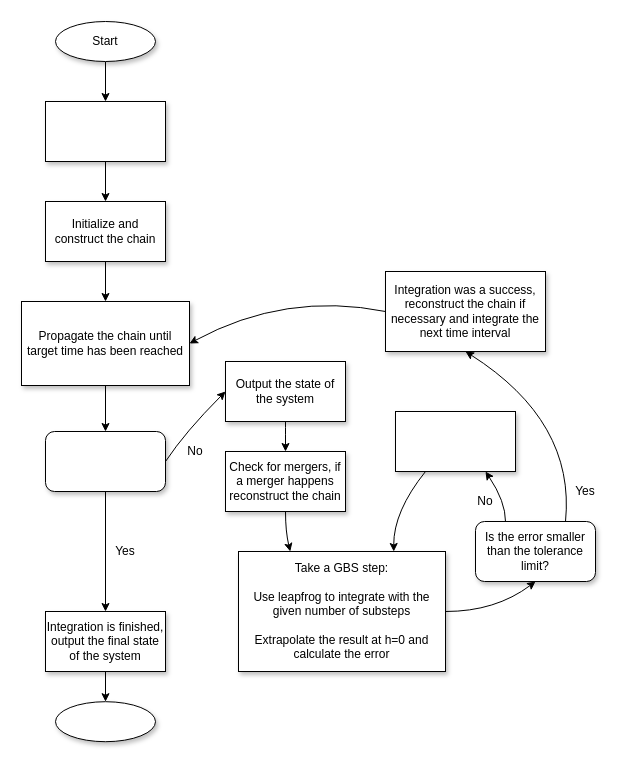
The diagram is 623 pixels wide and 767 high, and some of its shapes have lost their labels. The shapes that lost their labels are listed below. From the top down, each one's centre as x and y in pixels, then its label:
point 106,132: Prepare test scenario
point 106,462: Has the target time been reached?
point 456,442: Increase the substep amount
point 106,723: End
